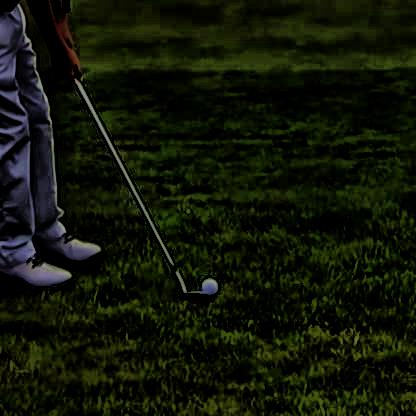golfball: (196, 270, 218, 294)
